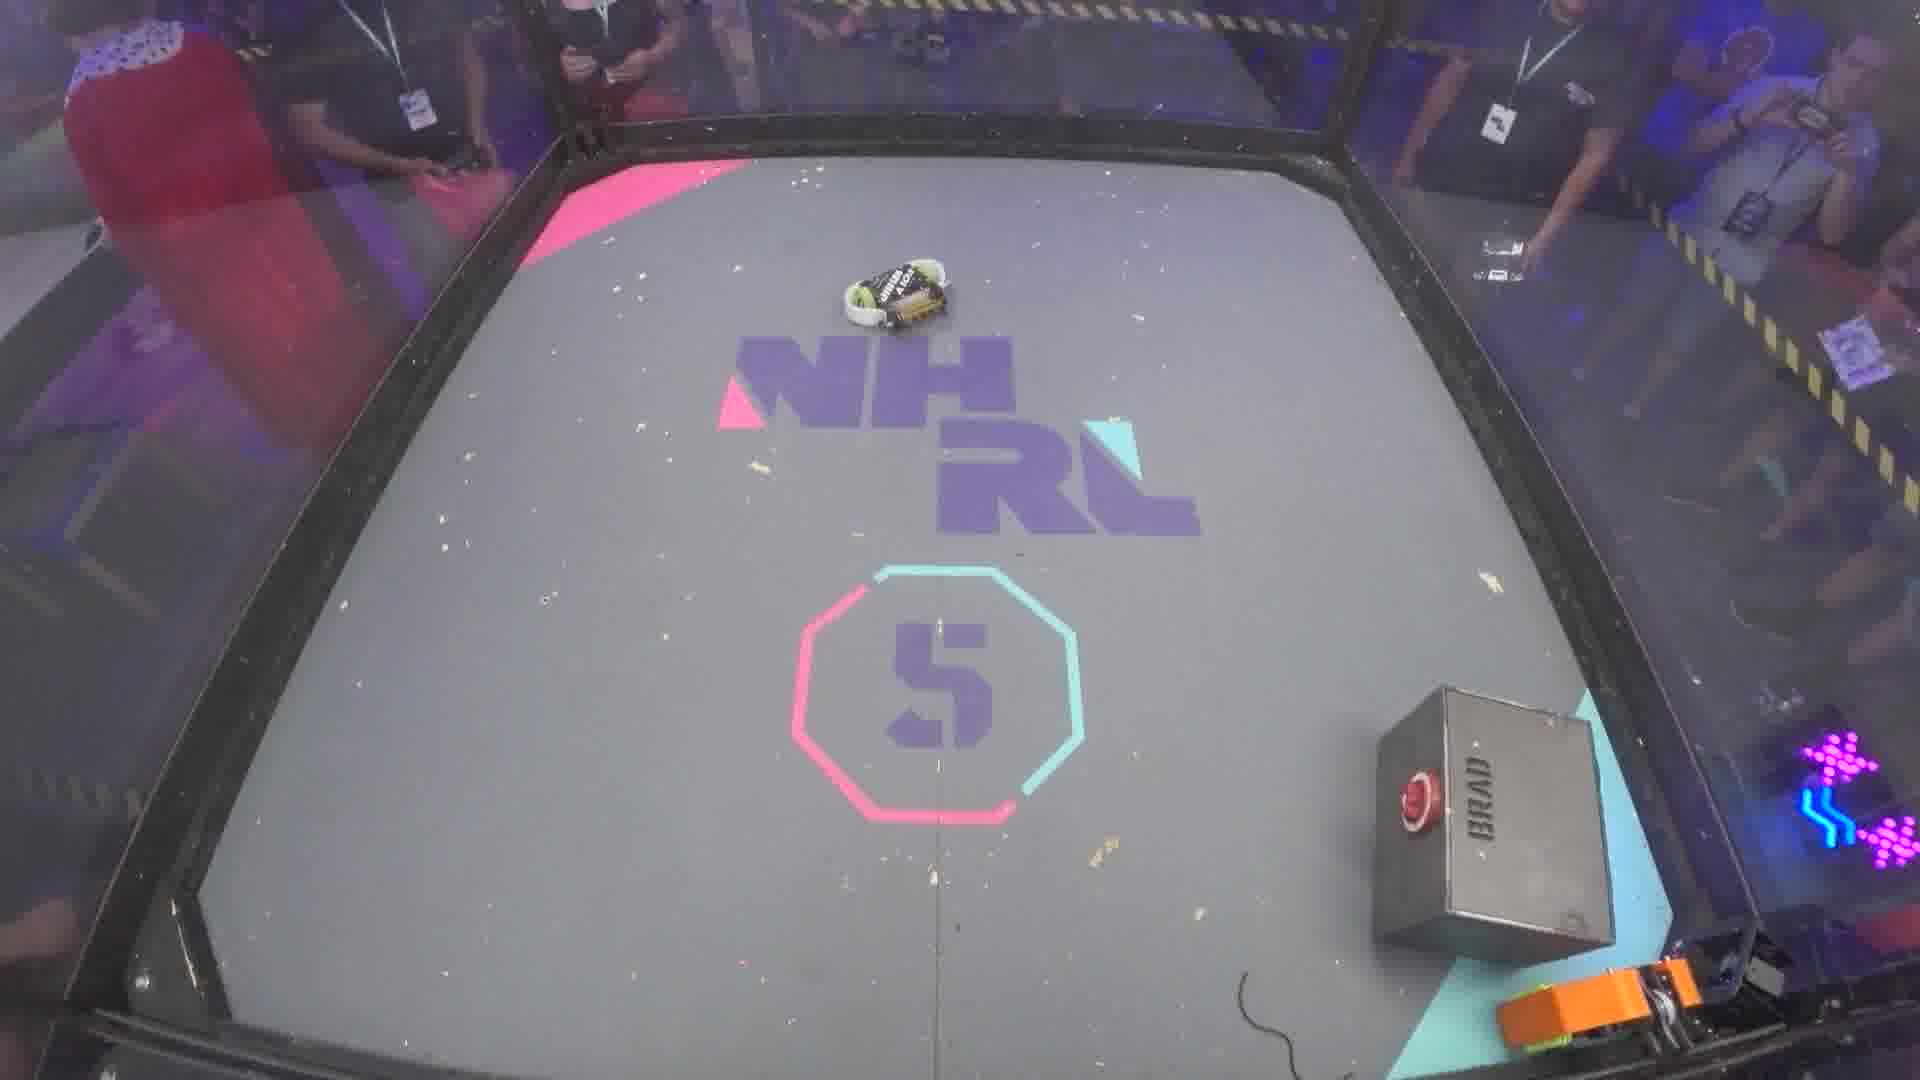belt: (1233, 971, 1360, 1079)
combatbot: (1501, 960, 1710, 1060), (840, 257, 952, 336)
housebot: (1364, 686, 1611, 955)
